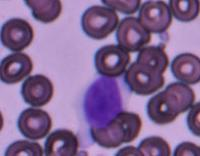L: (77, 74, 126, 129)
